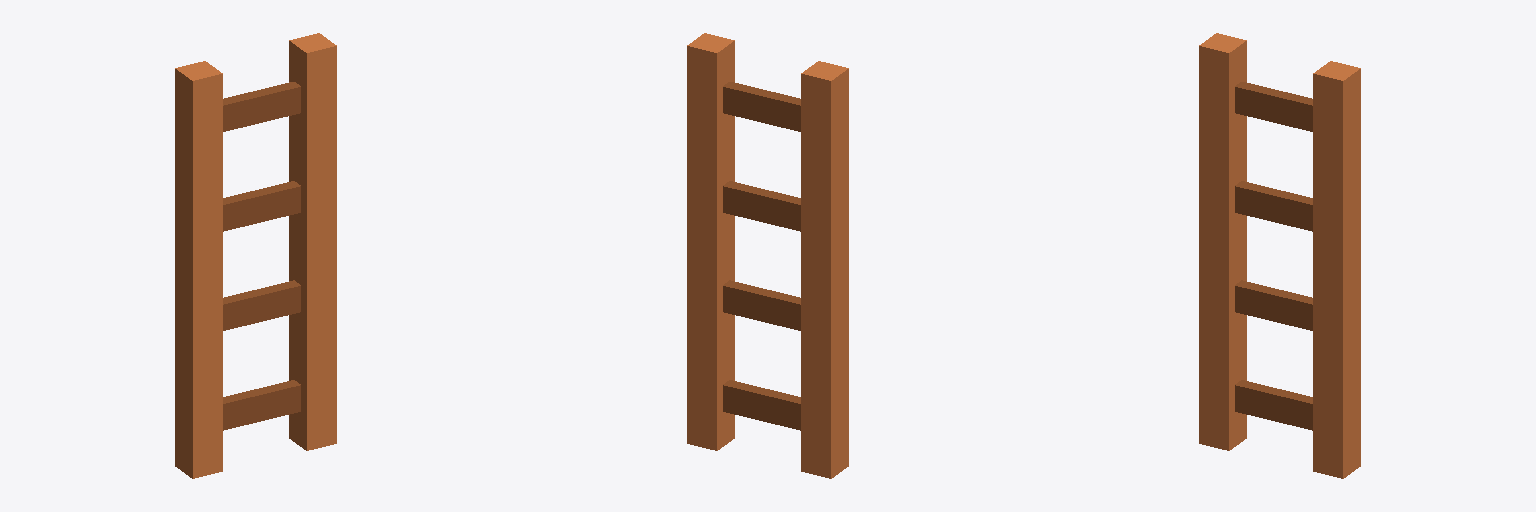
The model's file is ladder.obj.
3 views of the same model, side by side, from view 1: azimuth 30°, elevation 25°; view 2: azimuth 150°, elevation 25°; view 3: azimuth 330°, elevation 25° (orthographic).
Visible parts, largest first — view 1: ladder; view 2: ladder; view 3: ladder.
Part boxes in pixels (x1,y1,x2,y2): ladder: (175,33,336,478); ladder: (687,33,848,478); ladder: (1199,33,1360,478).
Size of the model in its own units: 0.38 by 1 by 0.08.